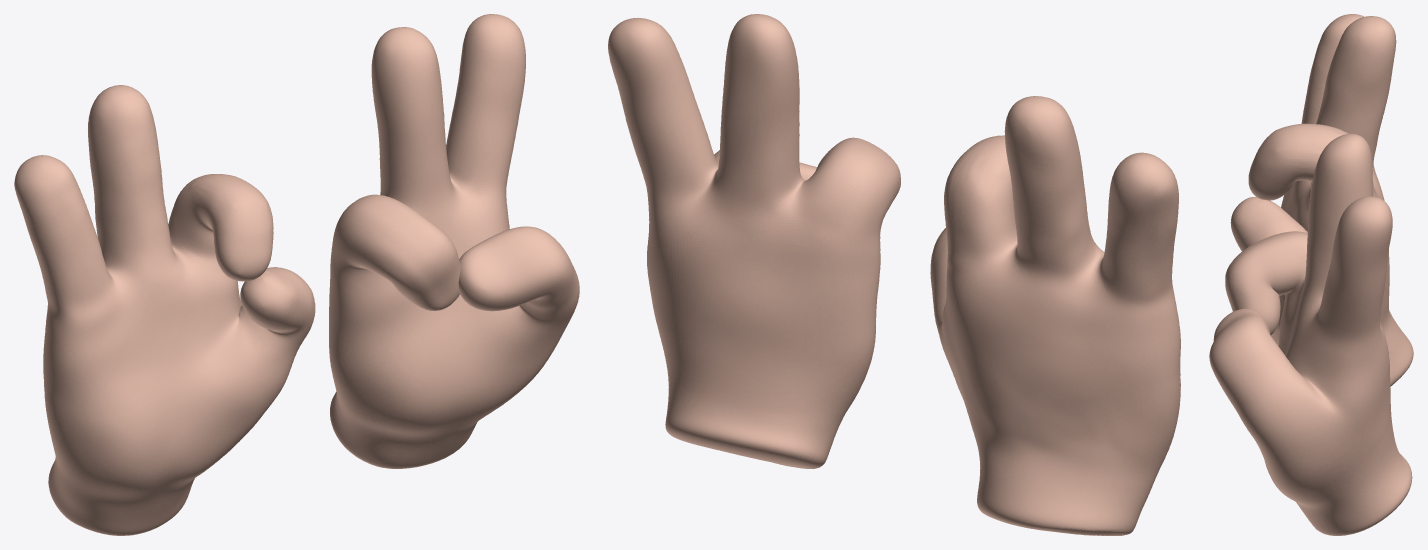
The model's file is newhands.glb.
3 views of the same model, side by side, from view 1: azimuth 30°, elevation 25°; view 2: azimuth 150°, elevation 25°; view 3: azimuth 270°, elevation 25° (orthographic). The views are drawn at different scales.
Parts seen in each view (by area): view 1: SubTool-0-8708123; view 2: SubTool-0-8708123; view 3: SubTool-0-8708123.
Boxes of the visible parts, box(x1,y1,x2,y2) form: SubTool-0-8708123: box(14, 14, 579, 535); SubTool-0-8708123: box(608, 14, 1180, 535); SubTool-0-8708123: box(1209, 14, 1413, 535).
Bounding box in the file's own units: 43.85 × 34.61 × 16.64.
